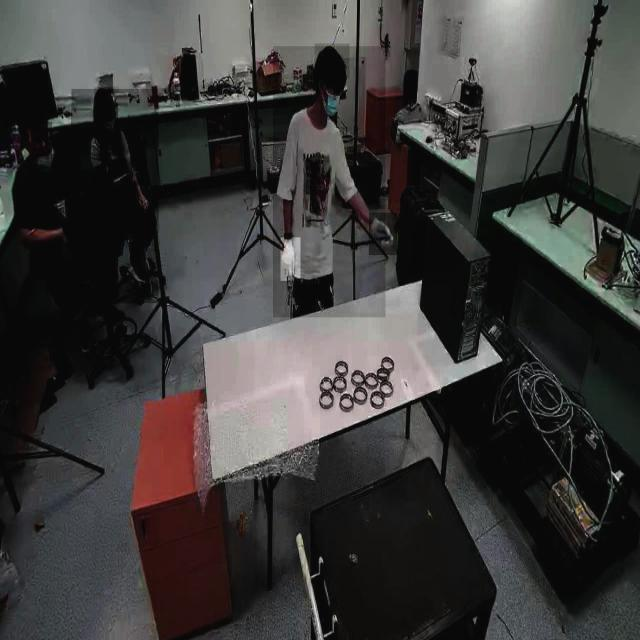face_mask: (322, 82, 342, 132), (102, 104, 118, 142)
face_nomask: (31, 122, 52, 159)
hand_glove: (369, 212, 397, 256), (280, 237, 300, 282)
hand_noglove: (137, 186, 151, 210)
head_nohelmet: (314, 44, 350, 79), (18, 100, 48, 124), (94, 87, 114, 102)
person: (272, 46, 386, 318), (5, 110, 84, 369), (71, 89, 159, 304)
